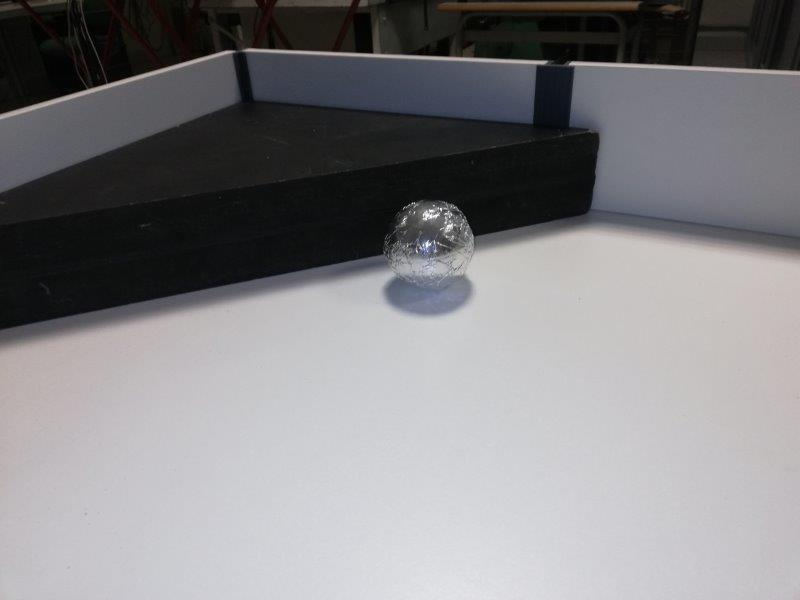bianca: (382, 198, 475, 295)
